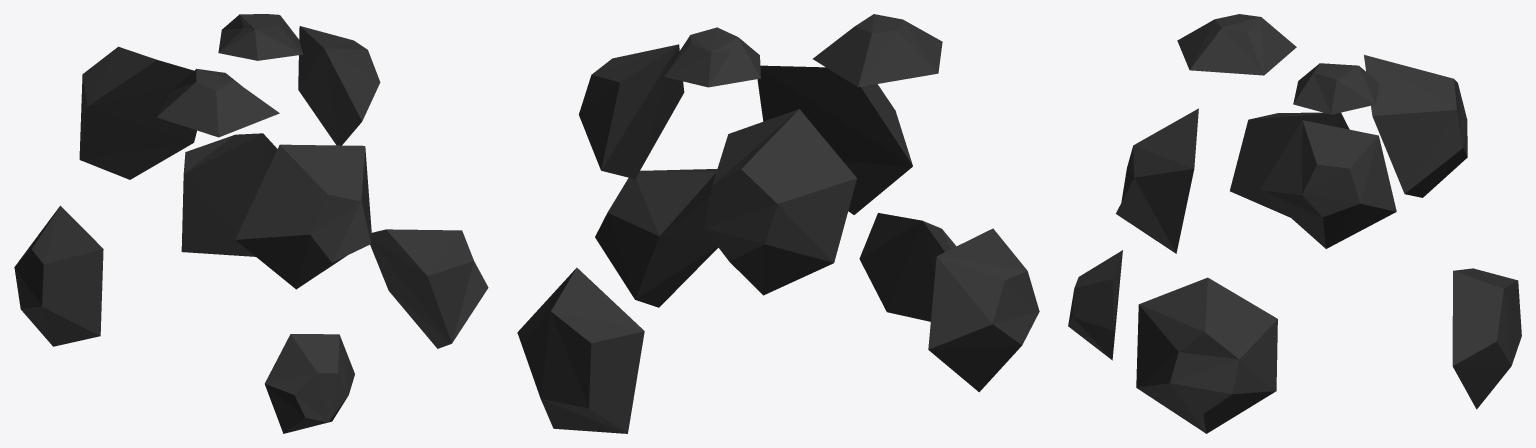
File: CoalOreA.fbx
3 views of the same model, side by side, from view 1: azimuth 30°, elevation 25°; view 2: azimuth 150°, elevation 25°; view 3: azimuth 270°, elevation 25° (orthographic). The views are drawn at different scales.
Parts seen in each view (by area): view 1: CoalOreA; view 2: CoalOreA; view 3: CoalOreA.
Part boxes in pixels (<box>): CoalOreA: <box>14,14,488,433</box>; CoalOreA: <box>517,14,1039,433</box>; CoalOreA: <box>1068,14,1521,433</box>.
Bounding box in the file's own units: 52.84 × 38.54 × 50.55.
